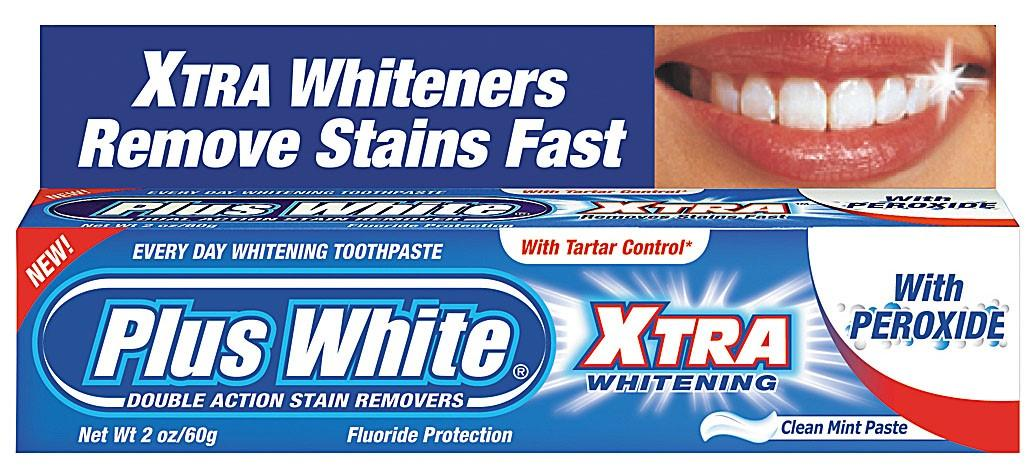toothpaste: (15, 192, 1022, 458)
